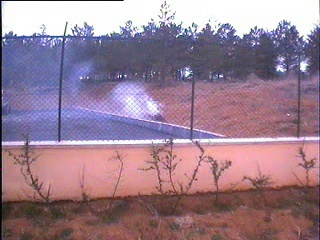smoke: (70, 55, 162, 119)
